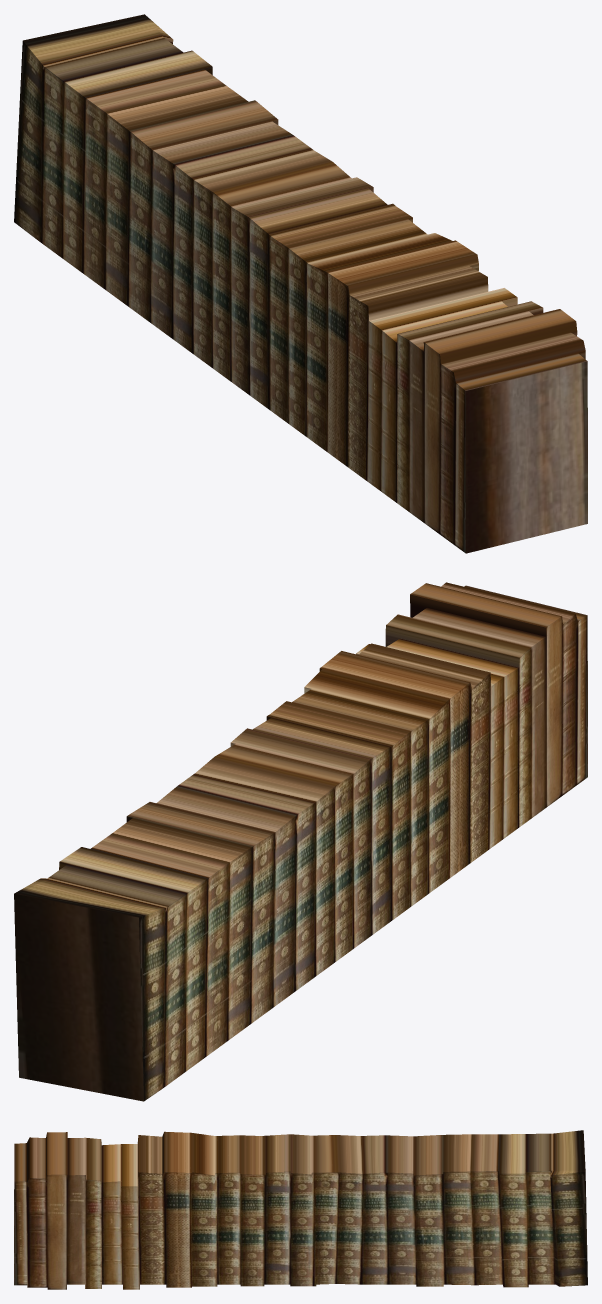
The model's file is Props_BookSet_5.fbx.
The picture shows the model from 3 angles, top to bottom: view 1: azimuth 30°, elevation 25°; view 2: azimuth 150°, elevation 25°; view 3: azimuth 270°, elevation 25°; orthographic projection. The views are drawn at different scales.
Visible parts, largest first — view 1: tx_books_5; view 2: tx_books_5; view 3: tx_books_5.
Boxes of the visible parts, x1=… form: tx_books_5: x1=14, y1=14, x2=587, y2=553; tx_books_5: x1=14, y1=582, x2=587, y2=1101; tx_books_5: x1=14, y1=1130, x2=587, y2=1289.
Size of the model in its own units: 65.95 by 84.85 by 368.
